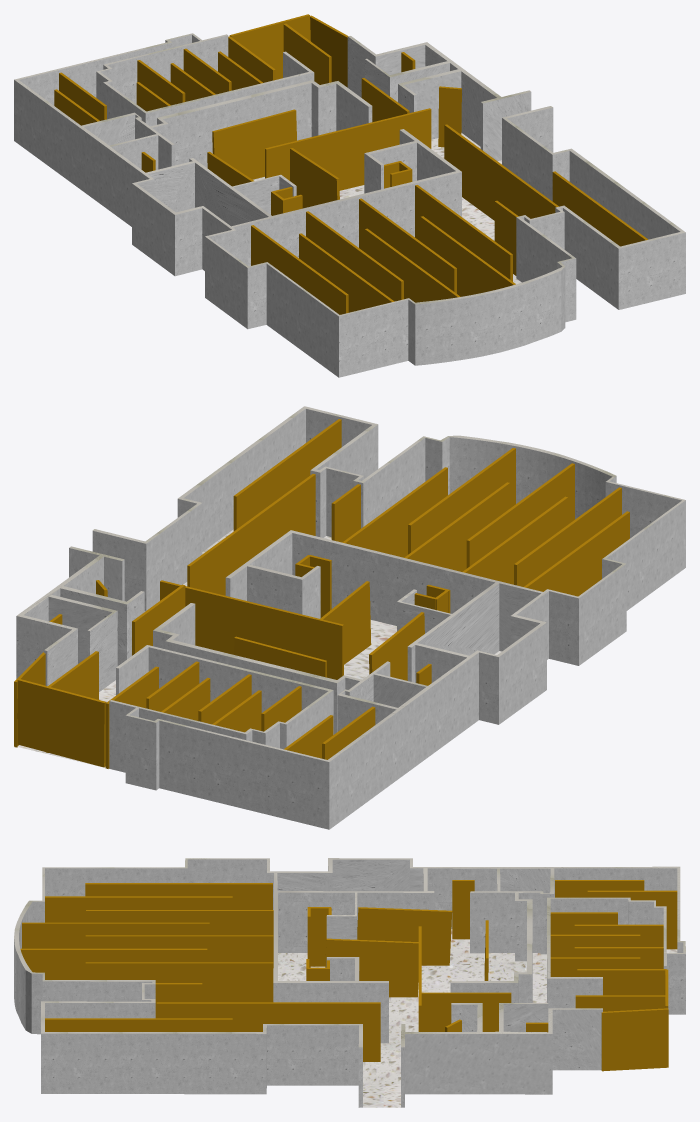
Rendered from event1.dae.
3 renders of one model, top to bottom at view 1: azimuth 30°, elevation 25°; view 2: azimuth 150°, elevation 25°; view 3: azimuth 270°, elevation 25°, orthographic. The views are drawn at different scales.
Parts seen in each view (by area): view 1: Curve_049, Cube_011, Cube_002, Cube_013, Cube_009, Cube_008, Cube_003, Cube_007, Cube_005, Cube_004, Cube_006, Cube_010 (+16 smaller); view 2: Curve_049, Cube_011, Cube_026, Cube_002, Cube_010, Cube_008, Cube_003, Cube_009, Cube_006, Cube_004, Cube_007, Cube_005 (+16 smaller); view 3: Curve_049, Cube_002, Cube_009, Cube_027, Cube_015, Cube_008, Cube_007, Cube_014, Cube_006, Cube_005, Cube_003, Cube_004 (+15 smaller).
Part boxes in pixels (x1,y1,x2,y2): Curve_049: (14,33,685,377); Cube_011: (265,108,431,190); Cube_002: (444,124,558,220); Cube_013: (212,109,296,179); Cube_009: (415,185,512,281); Cube_008: (420,216,515,296); Cube_003: (251,225,348,314); Cube_007: (359,198,456,293); Cube_005: (306,211,403,301); Cube_004: (299,233,394,312); Cube_006: (365,228,460,302); Cube_010: (552,171,647,246); Curve_049: (16,406,685,829); Cube_011: (160,580,343,679); Cube_026: (17,679,106,767); Cube_002: (187,474,315,595); Cube_010: (233,419,341,530); Cube_008: (408,448,515,554); Cube_003: (524,511,629,596); Cube_009: (342,467,447,557); Cube_006: (466,463,574,568); Cube_004: (514,487,621,586); Cube_007: (404,482,509,571); Cube_005: (462,496,567,584); Curve_049: (14,858,685,1107); Cube_002: (156,1002,380,1061); Cube_009: (85,962,273,1002); Cube_027: (601,1008,668,1071); Cube_015: (357,907,452,965); Cube_008: (20,948,207,979); Cube_007: (85,935,273,962); Cube_014: (325,938,418,997); Cube_006: (22,922,209,948); Cube_005: (86,910,273,967); Cube_003: (85,883,272,909); Cube_004: (45,896,232,922).
Bounding box in the file's own units: 40 × 60 × 6.42.
4 materials, 3 textured.
